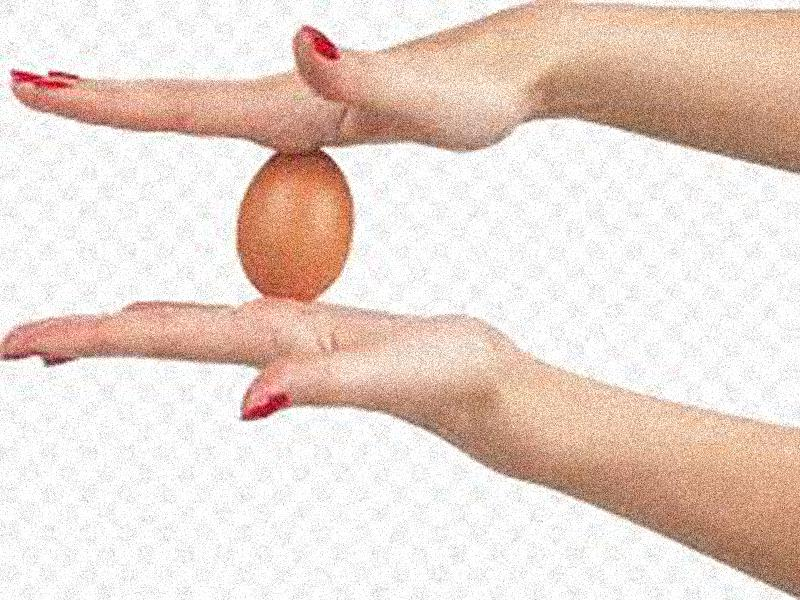Eggs: (240, 151, 353, 302)
